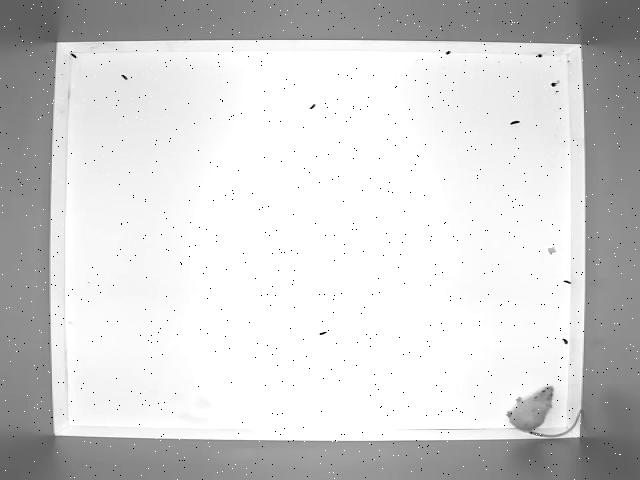Tikus: (504, 384, 584, 440)
